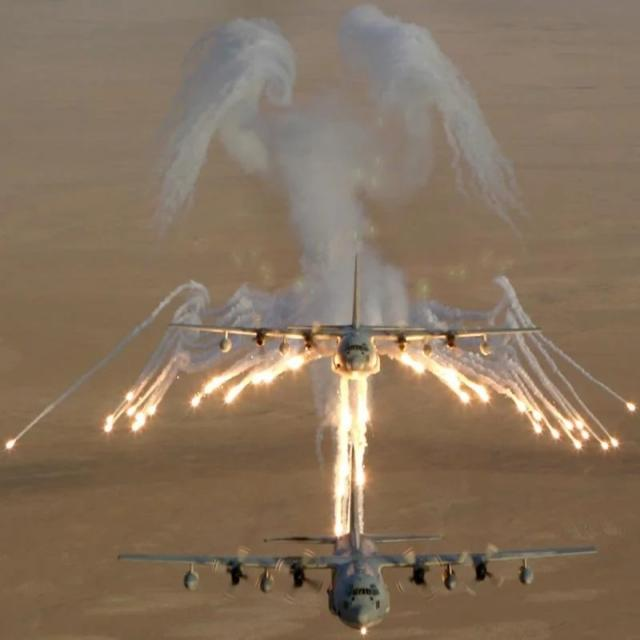MIL_Plane: (116, 442, 598, 631), (167, 254, 542, 377)
